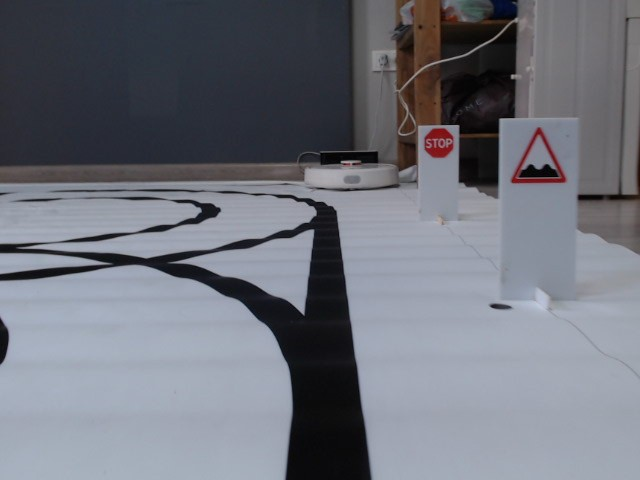Nerov: (510, 126, 569, 189)
Stop: (423, 127, 454, 157)
